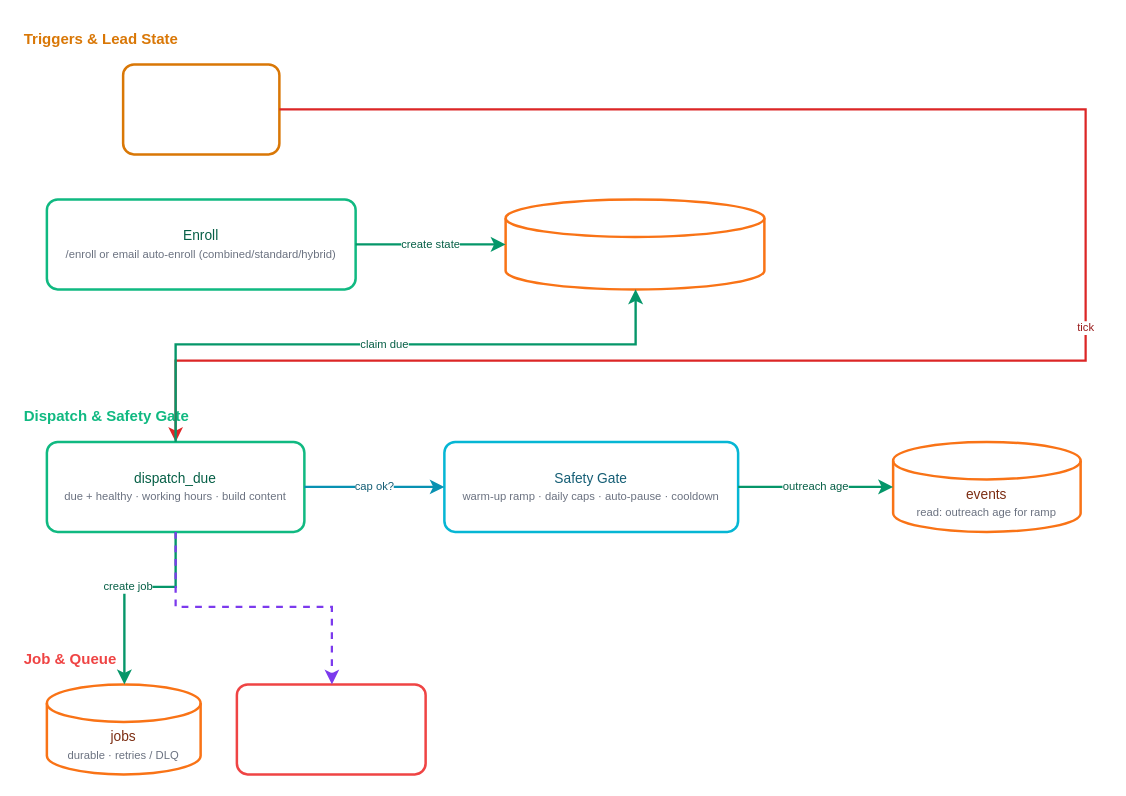
The diagram is 1126 pixels wide and 796 high, and some of its shapes have lost their labels. Here are the shapes that lost their labels. From the top down, the centre of each, then its label:
At [200,108]: "EventBridge ~5 min → /scheduler/tick".
At [634,244]: "lead_state step · branch · next_action_at (due-key)".
At [330,728]: "SQS FIFO MessageGroupId = account_id".
